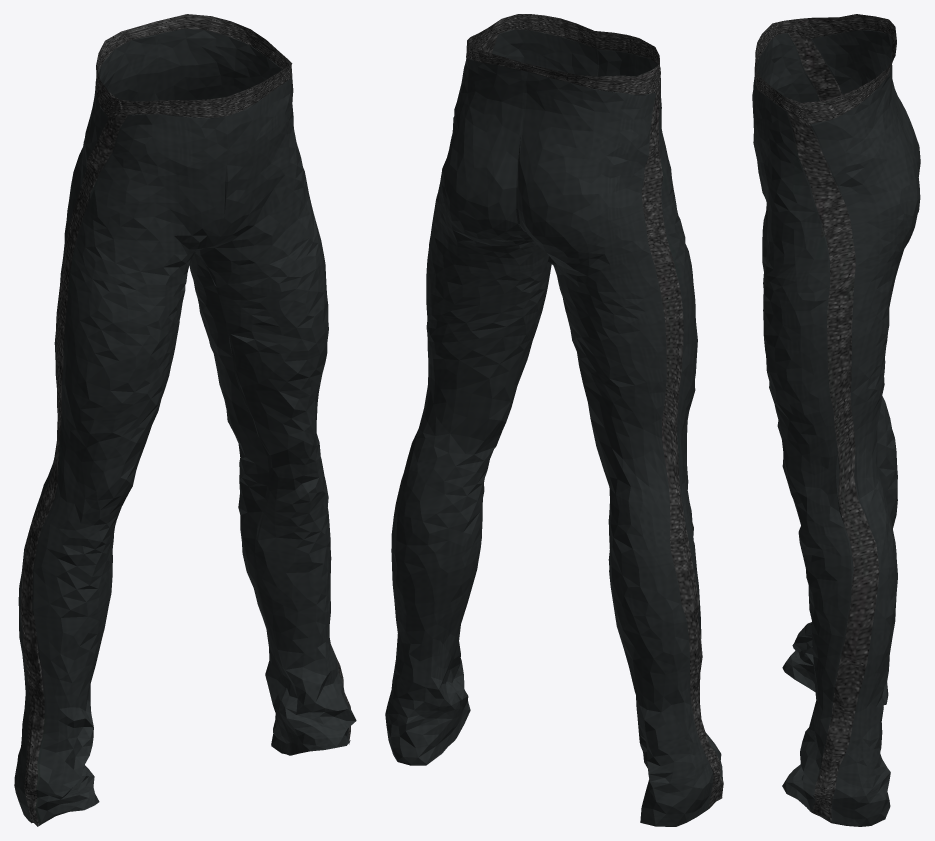
Rendered from mhw_elvs_disco_pants_skinny.glb.
3 renders of one model, left to right at view 1: azimuth 30°, elevation 25°; view 2: azimuth 150°, elevation 25°; view 3: azimuth 270°, elevation 25°, orthographic. The views are drawn at different scales.
Visible parts, largest first — view 1: mhw_elvs_disco_pants_skinny; view 2: mhw_elvs_disco_pants_skinny; view 3: mhw_elvs_disco_pants_skinny.
Part boxes in pixels (x1=…): mhw_elvs_disco_pants_skinny: x1=14, y1=14, x2=356, y2=826; mhw_elvs_disco_pants_skinny: x1=385, y1=14, x2=723, y2=826; mhw_elvs_disco_pants_skinny: x1=752, y1=14, x2=920, y2=826.
Bounding box in the file's own units: 0.5383 × 1.19 × 0.2518.
Materials: 1 (1 with a texture image).
